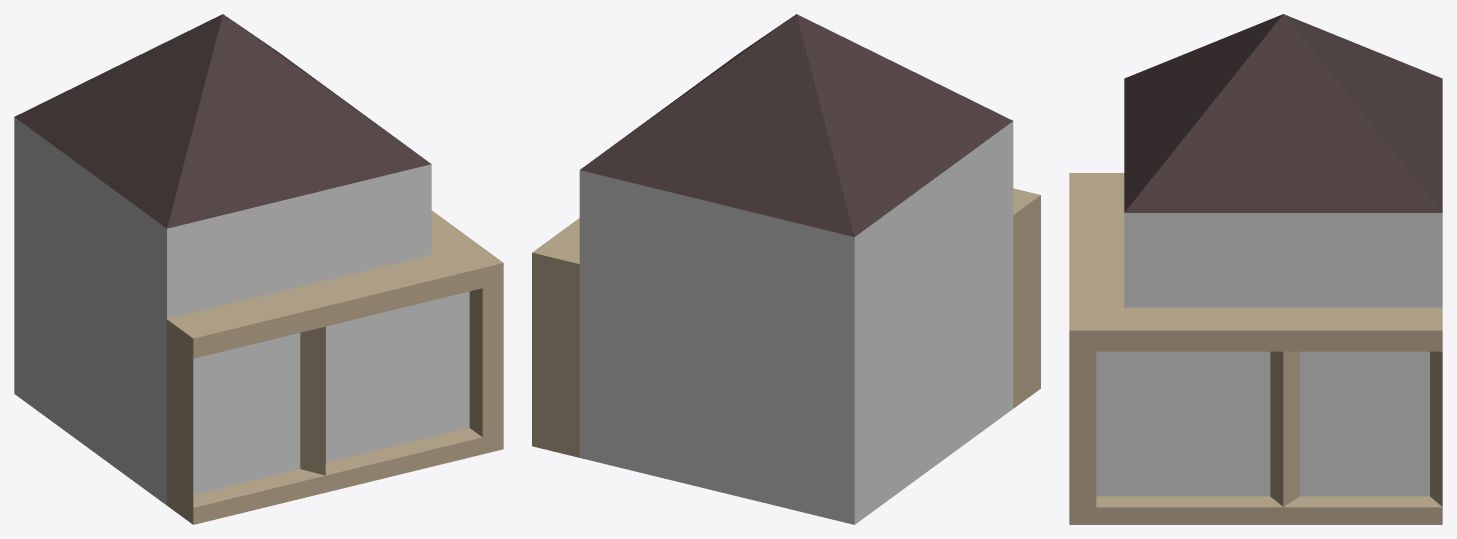
File: House4.fbx
3 views of the same model, side by side, from view 1: azimuth 30°, elevation 25°; view 2: azimuth 150°, elevation 25°; view 3: azimuth 270°, elevation 25° (orthographic). The views are drawn at different scales.
Parts seen in each view (by area): view 1: House_4; view 2: House_4; view 3: House_4.
Boxes of the visible parts, x1,y1,x2,y2 form: House_4: (14,14,503,524); House_4: (532,14,1040,524); House_4: (1069,14,1442,524).
Bounding box in the file's own units: 5.86 × 7.28 × 5.86.
